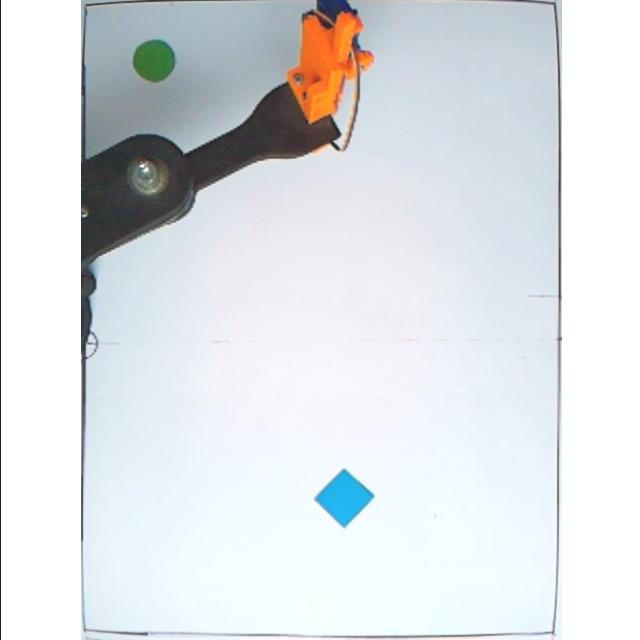blueSquare: (312, 469, 374, 529)
greenCircle: (130, 40, 176, 82)
